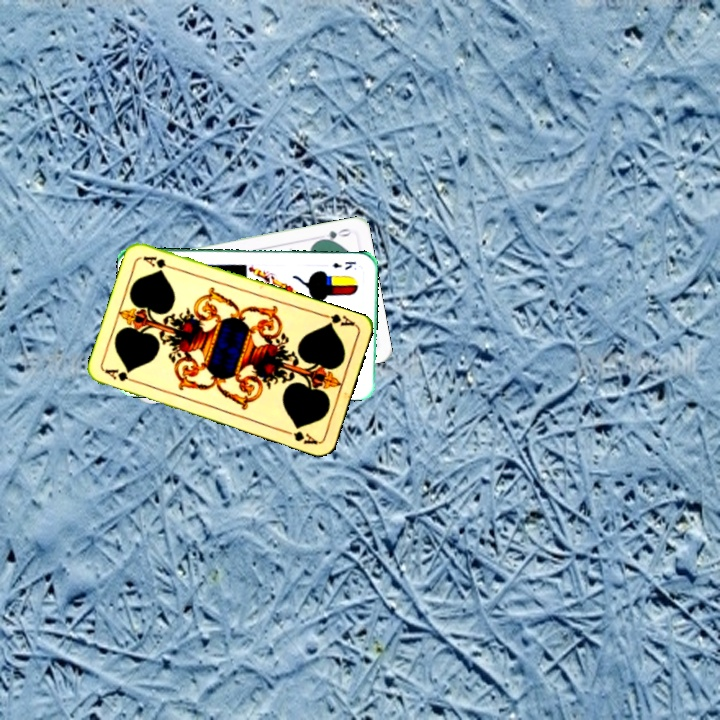EK: (329, 257, 358, 272)
GA: (101, 365, 140, 386), (318, 310, 358, 329)
GO: (314, 224, 354, 244)
